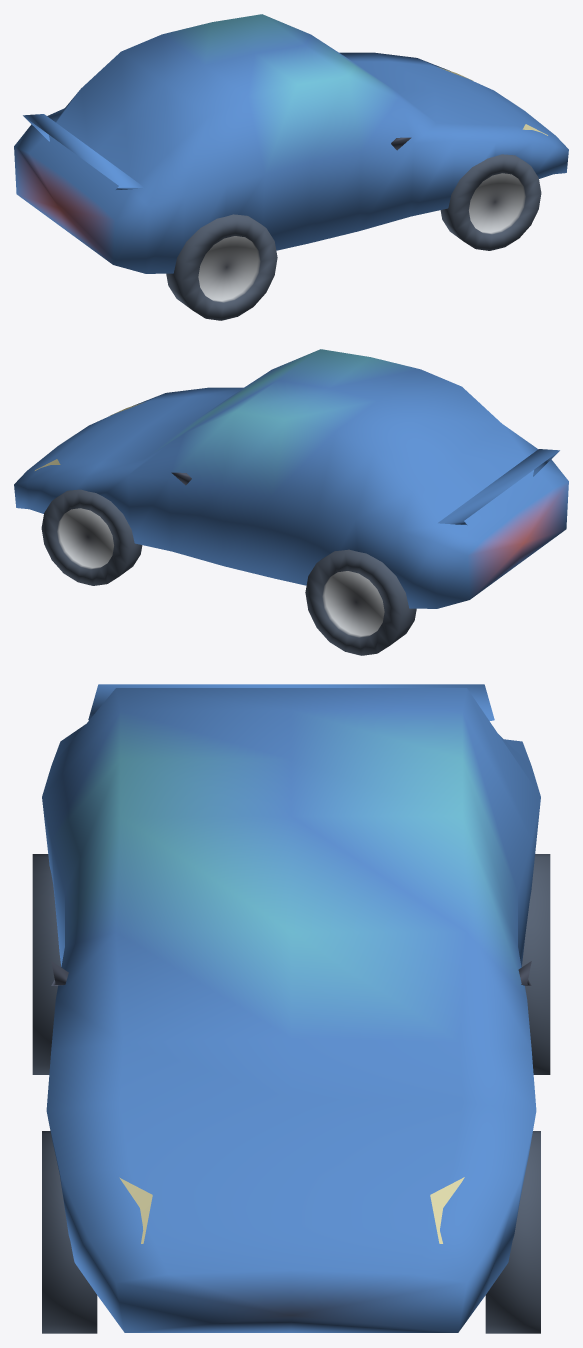
File: test_sports_car.glb
3 renders of one model, top to bottom at view 1: azimuth 30°, elevation 25°; view 2: azimuth 150°, elevation 25°; view 3: azimuth 270°, elevation 25°, orthographic. The views are drawn at different scales.
Bounding box in the file's own units: 2 × 0.7902 × 0.9451.
